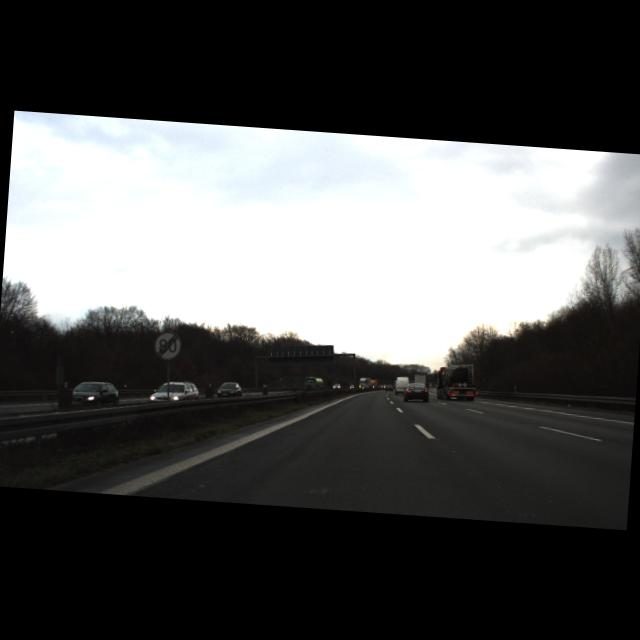other: (152, 330, 182, 361)
